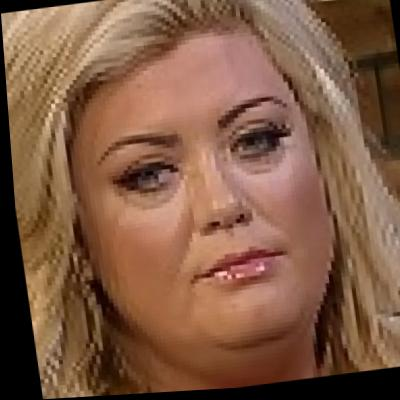sad: (52, 28, 341, 363)
